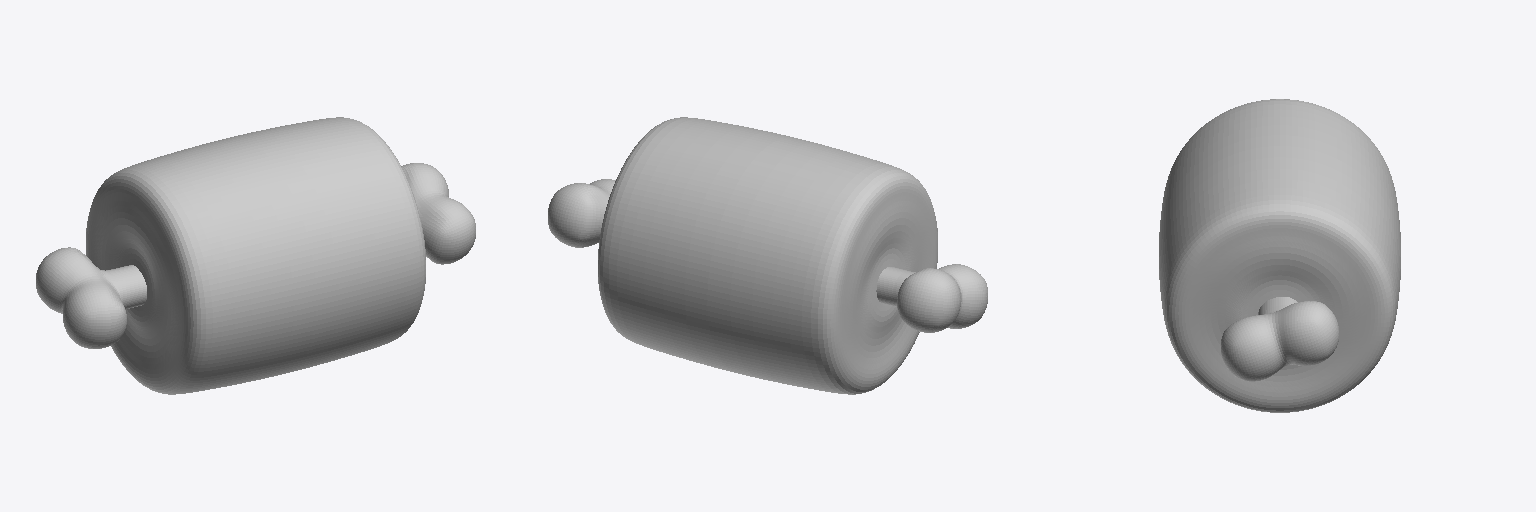
Rendered from meat on bone.obj.
3 views of the same model, side by side, from view 1: azimuth 30°, elevation 25°; view 2: azimuth 150°, elevation 25°; view 3: azimuth 270°, elevation 25° (orthographic).
Parts seen in each view (by area): view 1: Cylinder, Cube; view 2: Cylinder, Cube; view 3: Cylinder, Cube.
Boxes of the visible parts, box(x1,y1,x2,y2) form: Cylinder: box(86, 117, 425, 394); Cube: box(36, 163, 475, 348); Cylinder: box(598, 117, 937, 394); Cube: box(548, 179, 987, 332); Cylinder: box(1159, 99, 1400, 412); Cube: box(1221, 297, 1338, 381).
Size of the model in its own units: 7.6 by 3.95 by 3.95.